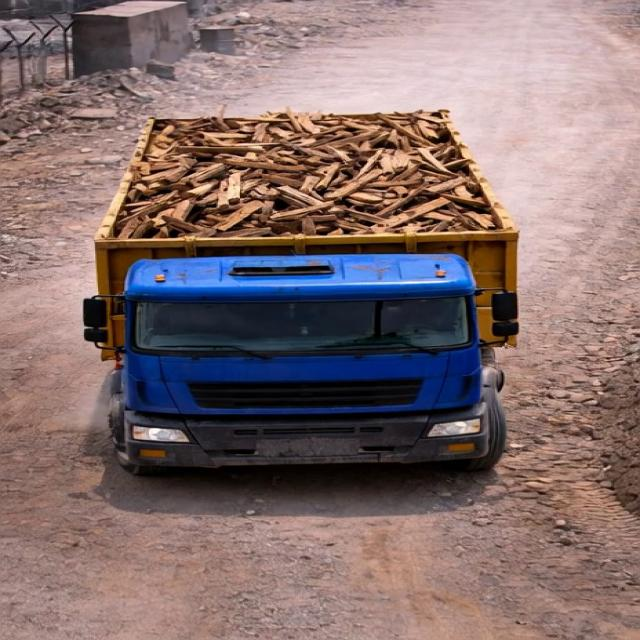trailer: (75, 109, 550, 242)
truck: (49, 99, 540, 476)
